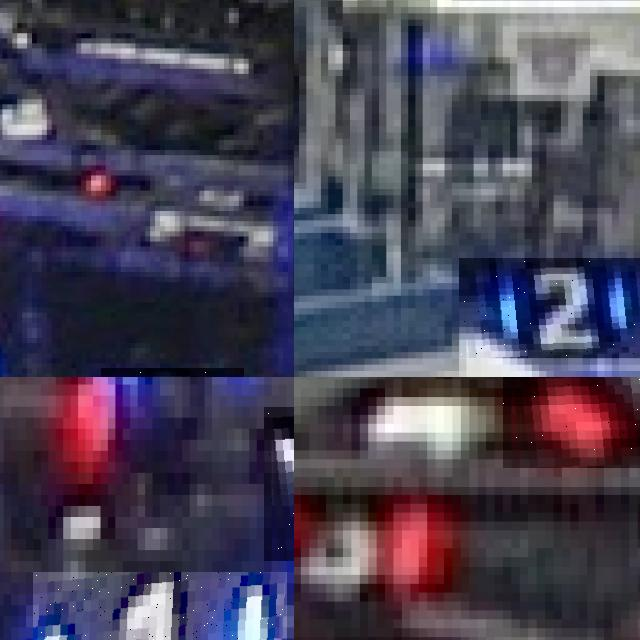B1: (33, 572, 286, 640), (264, 406, 294, 561)
B2: (459, 257, 640, 358)
R3: (503, 377, 640, 468)
